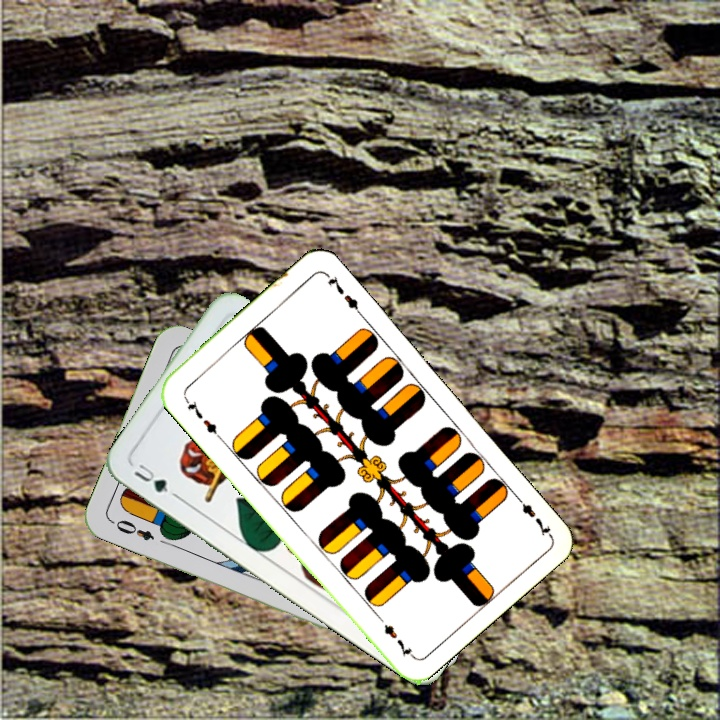E7: (510, 489, 553, 539), (180, 392, 223, 441)
EO: (107, 515, 157, 544)
GU: (130, 458, 171, 496)
